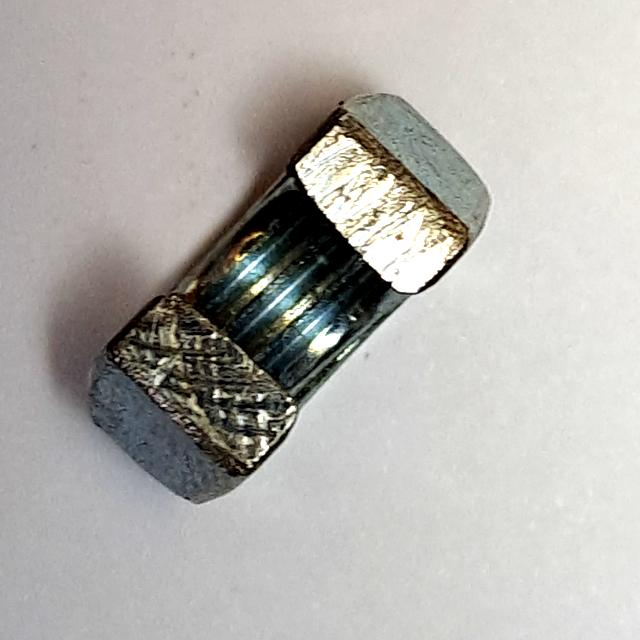Side-Fracture: (75, 81, 504, 526)
